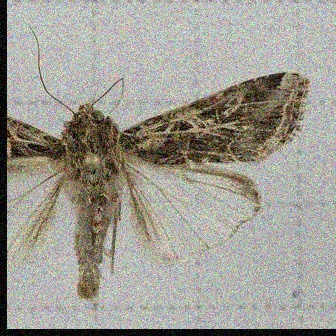Spodoptera litura: (7, 25, 309, 300)
